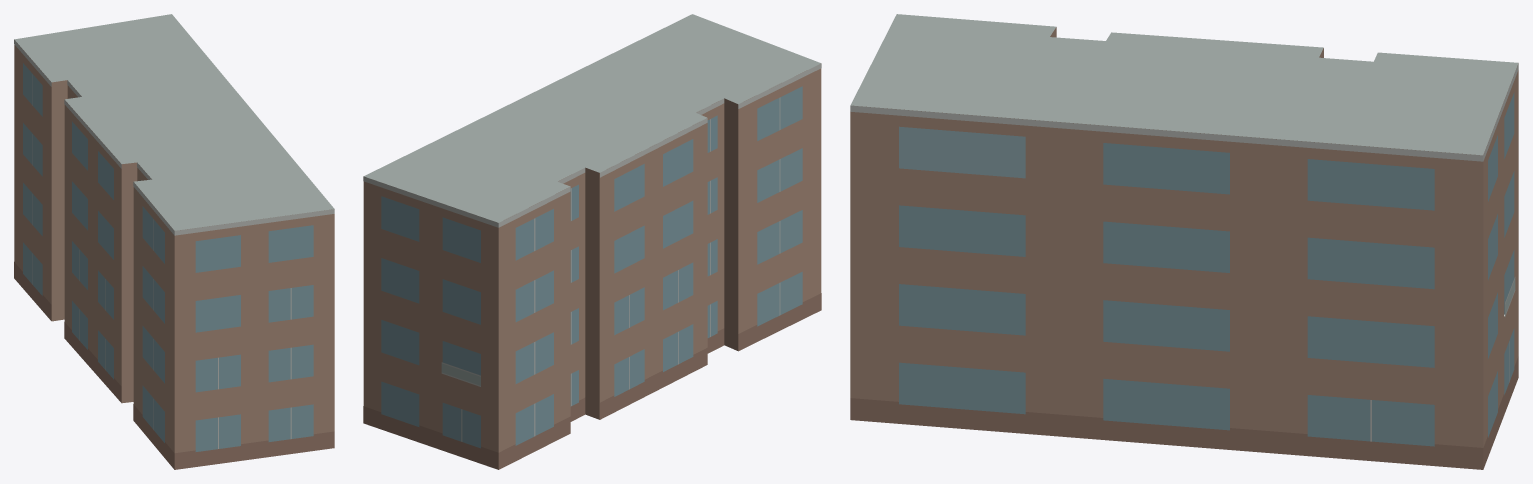
File: survey-upis-33016781.glb
3 views of the same model, side by side, from view 1: azimuth 30°, elevation 25°; view 2: azimuth 150°, elevation 25°; view 3: azimuth 270°, elevation 25° (orthographic). The views are drawn at different scales.
Parts seen in each view (by area): view 1: survey-upis-33016781.tmp; view 2: survey-upis-33016781.tmp; view 3: survey-upis-33016781.tmp.
Boxes of the visible parts, x1,y1,x2,y2 form: survey-upis-33016781.tmp: (14,14,334,469); survey-upis-33016781.tmp: (363,14,821,469); survey-upis-33016781.tmp: (850,14,1518,469).
Bounding box in the file's own units: 11.77 × 12.2 × 23.51.
